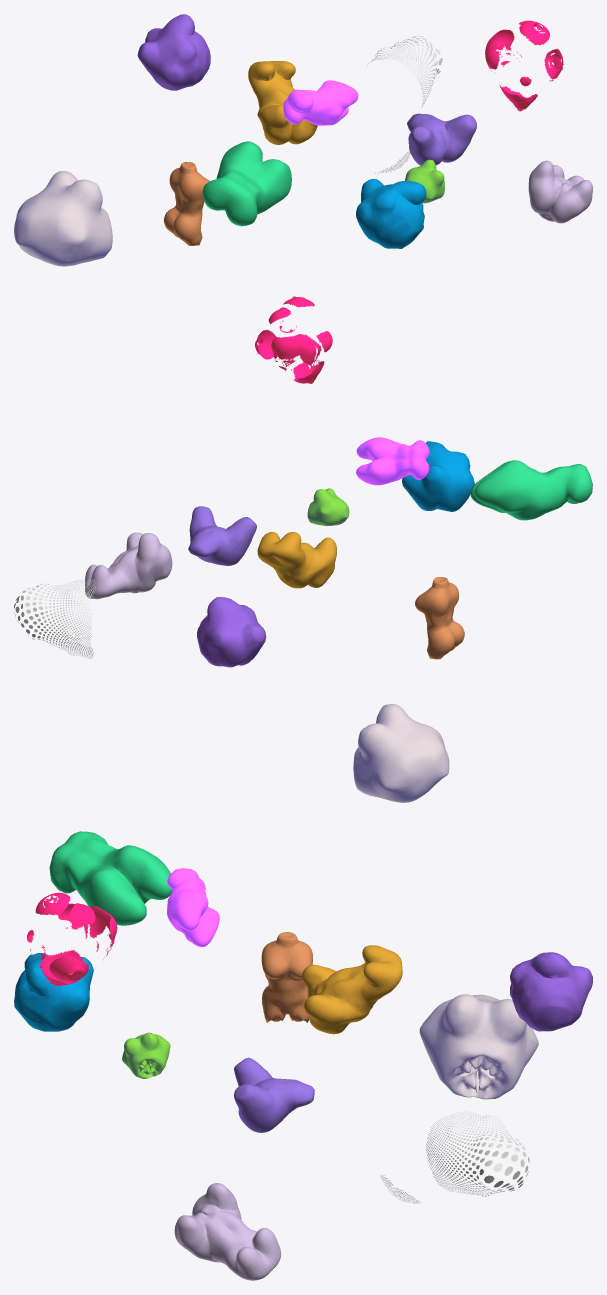
Rendered from asset.glb.
3 views of the same model, one above another, from view 1: azimuth 30°, elevation 25°; view 2: azimuth 150°, elevation 25°; view 3: azimuth 270°, elevation 25° (orthographic). The views are drawn at different scales.
Parts seen in each view (by area): view 1: Quad Sphere.011, Quad Sphere.004, Quad Sphere.006, Quad Sphere.009, Quad Sphere.005, Quad Sphere.010, Quad Sphere.002, Quad Sphere.001, Quad Sphere.003, Quad Sphere.008, Quad Sphere.007, Quad Sphere; view 2: Quad Sphere.011, Quad Sphere.004, Quad Sphere.010, Quad Sphere.009, Quad Sphere.005, Quad Sphere.006, Quad Sphere.008, Quad Sphere.003, Quad Sphere.002, Quad Sphere.001, Quad Sphere.007, Quad Sphere; view 3: Quad Sphere.011, Quad Sphere.004, Quad Sphere.010, Quad Sphere.005, Quad Sphere.009, Quad Sphere.006, Quad Sphere.002, Quad Sphere.001, Quad Sphere.007, Quad Sphere.008, Quad Sphere.003, Quad Sphere.
Boxes of the visible parts, x1,y1,x2,y2 form: Quad Sphere.011: (14,171,112,266); Quad Sphere.004: (202,141,291,226); Quad Sphere.006: (356,179,426,248); Quad Sphere.009: (137,14,210,90); Quad Sphere.005: (248,61,317,144); Quad Sphere.010: (528,160,592,223); Quad Sphere.002: (407,113,476,165); Quad Sphere.001: (164,162,209,245); Quad Sphere.003: (283,80,358,125); Quad Sphere.008: (485,20,563,111); Quad Sphere.007: (367,36,442,173); Quad Sphere: (405,159,444,203); Quad Sphere.011: (353,704,449,802); Quad Sphere.004: (470,460,592,520); Quad Sphere.010: (85,532,172,599); Quad Sphere.009: (197,597,266,667); Quad Sphere.005: (257,532,336,588); Quad Sphere.006: (402,441,474,511); Quad Sphere.008: (255,296,332,383); Quad Sphere.003: (356,437,429,485); Quad Sphere.002: (188,506,256,565); Quad Sphere.001: (415,577,464,659); Quad Sphere.007: (14,579,95,658); Quad Sphere: (307,488,349,526); Quad Sphere.011: (419,994,538,1099); Quad Sphere.004: (49,831,172,925); Quad Sphere.010: (174,1183,281,1280); Quad Sphere.005: (302,945,402,1034); Quad Sphere.009: (510,952,592,1031); Quad Sphere.006: (14,953,93,1031); Quad Sphere.002: (234,1057,314,1132); Quad Sphere.001: (261,932,312,1022); Quad Sphere.007: (380,1111,529,1203); Quad Sphere.008: (27,892,117,985); Quad Sphere.003: (167,868,219,946); Quad Sphere: (122,1032,170,1078).
Bounding box in the file's own units: 8.77 × 5.45 × 8.15.
